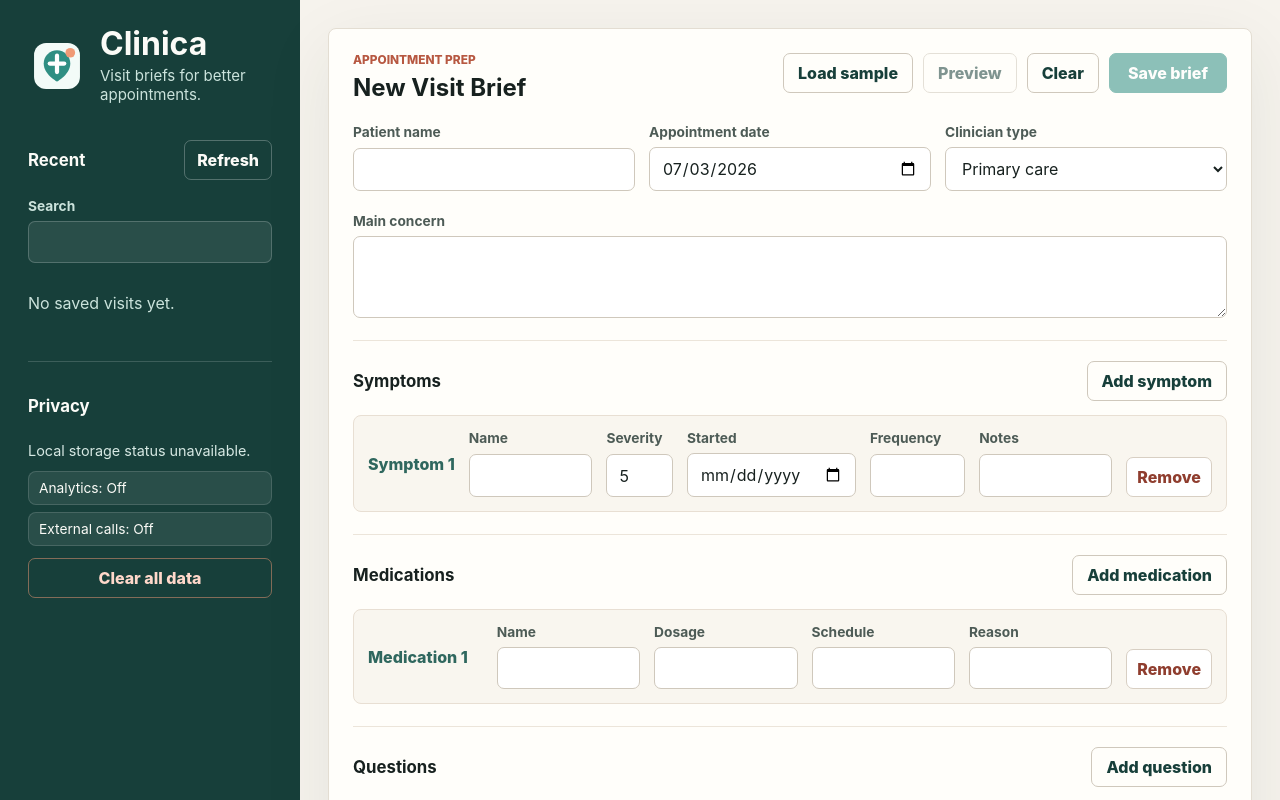
Test case: Clinica app › adds symptom rows
Click the button "Add symptom" at (1157, 381), box top-left (1086, 361), bottom-right (1227, 401)
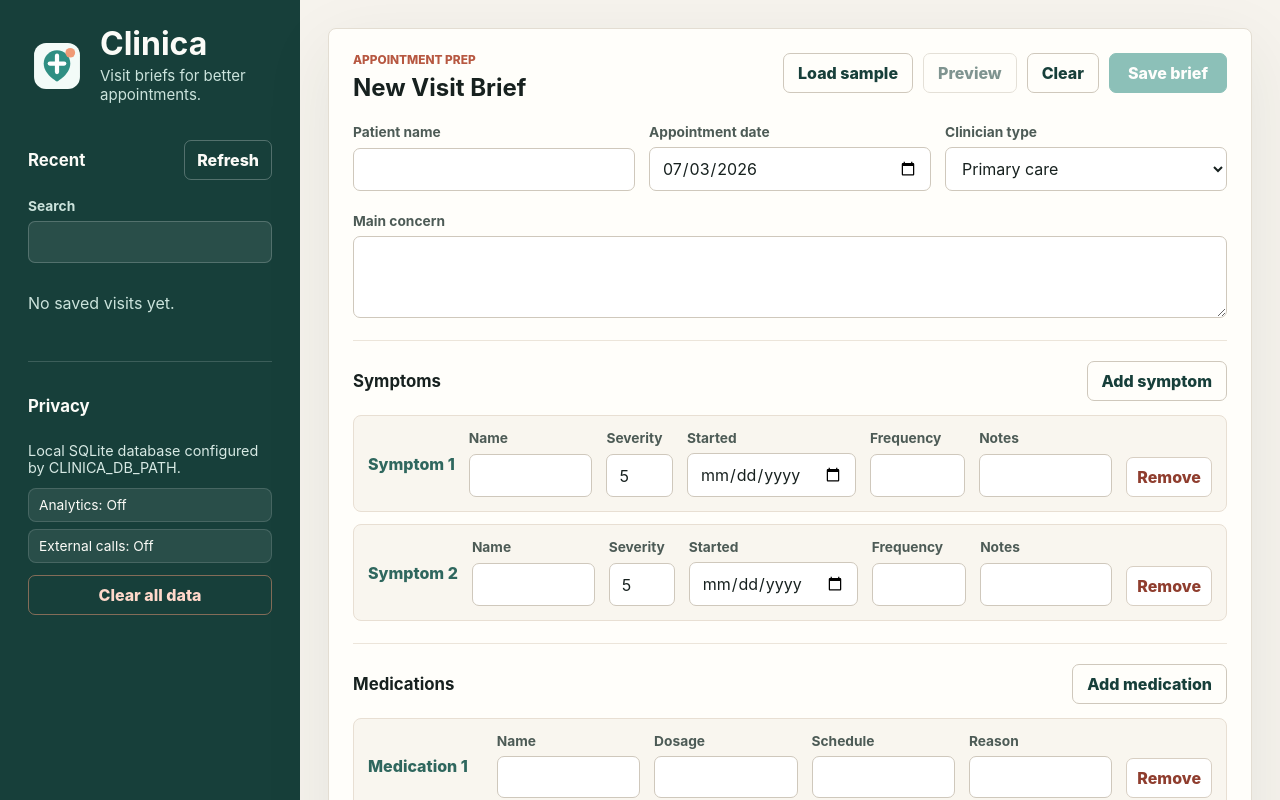
Now the text "Symptom 2" is shown, box top-left (368, 562), bottom-right (458, 582)
